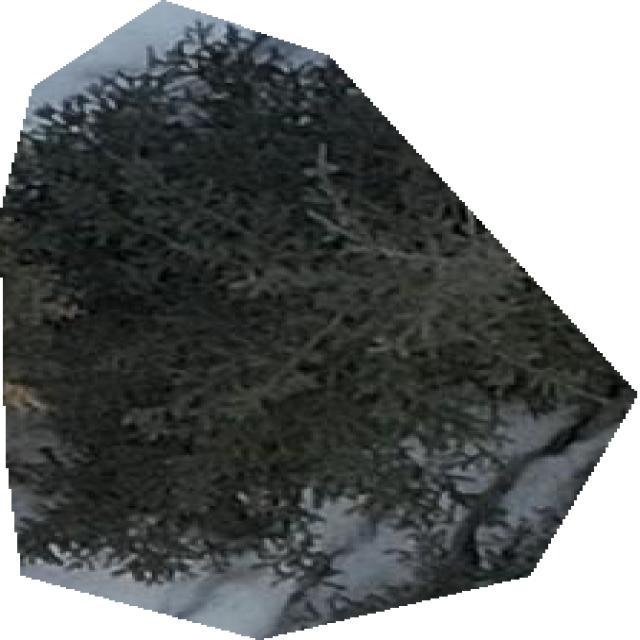spruce: (0, 3, 634, 636)
